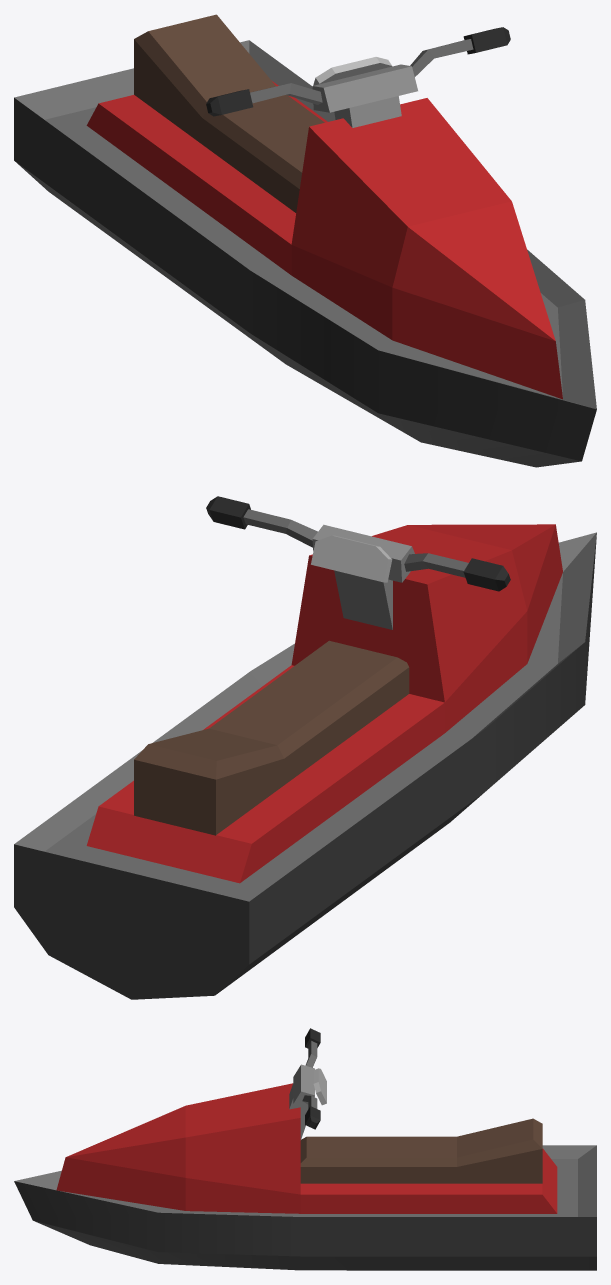
File: SkiJet.fbx
The picture shows the model from 3 angles, top to bottom: view 1: azimuth 30°, elevation 25°; view 2: azimuth 150°, elevation 25°; view 3: azimuth 270°, elevation 25°; orthographic projection. The views are drawn at different scales.
Parts seen in each view (by area): view 1: SkiJet; view 2: SkiJet; view 3: SkiJet.
Boxes of the visible parts, x1,y1,x2,y2 form: SkiJet: (14,14,596,467); SkiJet: (14,496,596,999); SkiJet: (14,1028,596,1270).
Size of the model in its own units: 127 by 122 by 343.
